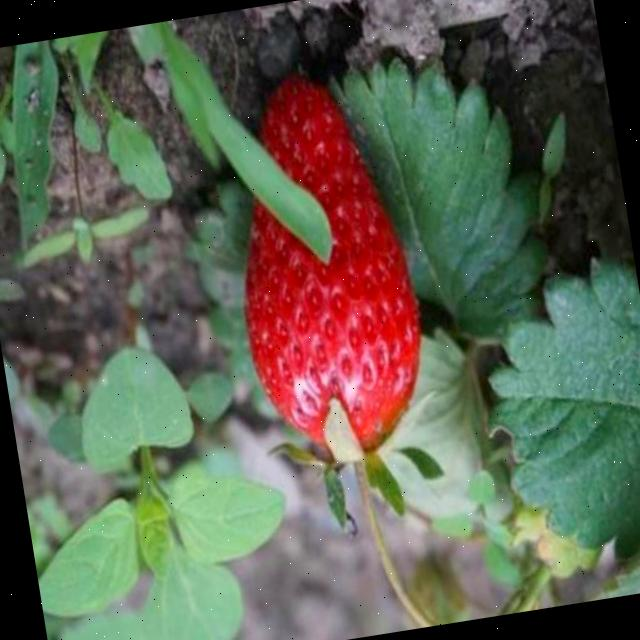strawberry: (207, 61, 440, 470)
